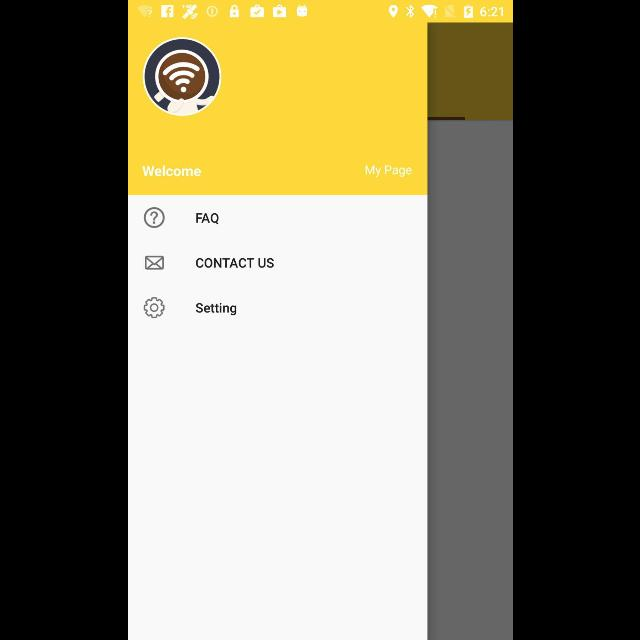icon: (144, 207, 164, 229), (144, 298, 164, 318), (144, 256, 164, 270)
image: (142, 38, 220, 116)
panel: (128, 22, 426, 640)
text: (195, 258, 273, 268), (141, 165, 201, 177), (194, 302, 236, 316), (364, 164, 411, 176), (196, 213, 218, 225)
uppertaskbar: (128, 1, 512, 23)
